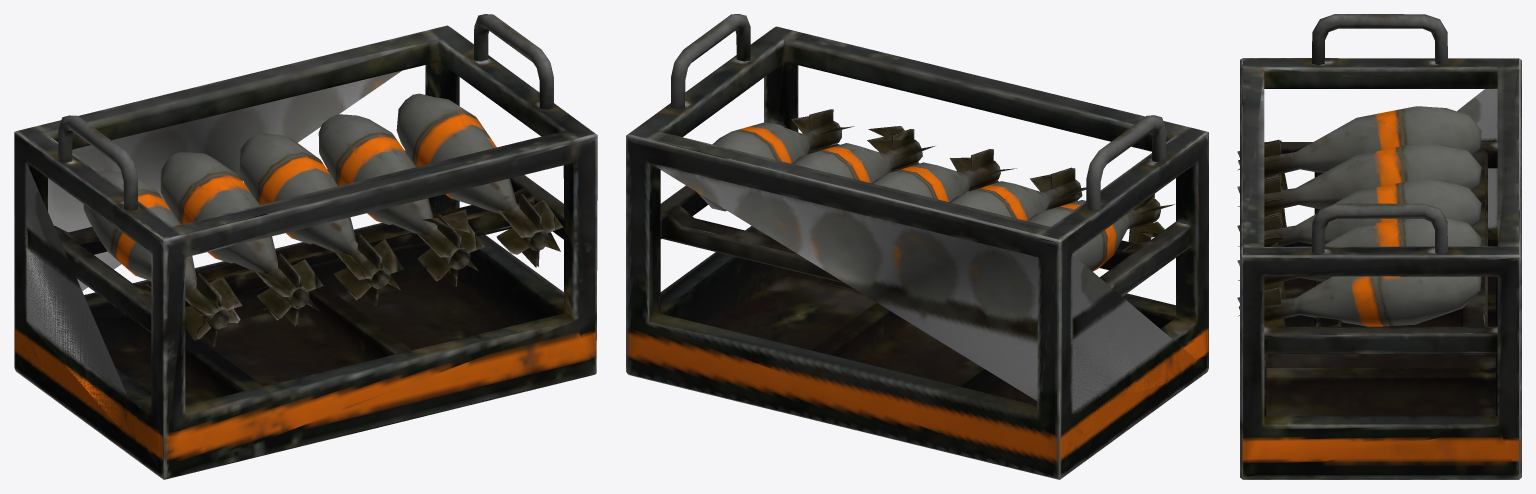
Rendered from loot_mortar.glb.
3 renders of one model, left to right at view 1: azimuth 30°, elevation 25°; view 2: azimuth 150°, elevation 25°; view 3: azimuth 270°, elevation 25°, orthographic. The views are drawn at different scales.
Parts seen in each view (by area): view 1: geometry_0; view 2: geometry_0; view 3: geometry_0.
Part boxes in pixels (bbox=[...]): geometry_0: bbox=[14, 14, 597, 479]; geometry_0: bbox=[626, 14, 1208, 479]; geometry_0: bbox=[1237, 14, 1521, 479].
Bounding box in the file's own units: 0.9546 × 0.6069 × 0.5776.
Materials: 1 (1 with a texture image).
